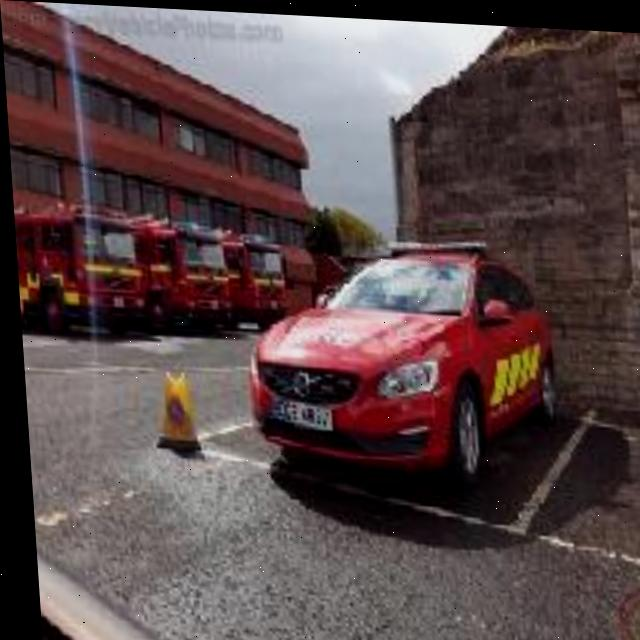emergency: (235, 222, 569, 504), (10, 198, 142, 349), (138, 228, 217, 331), (217, 231, 290, 334)
